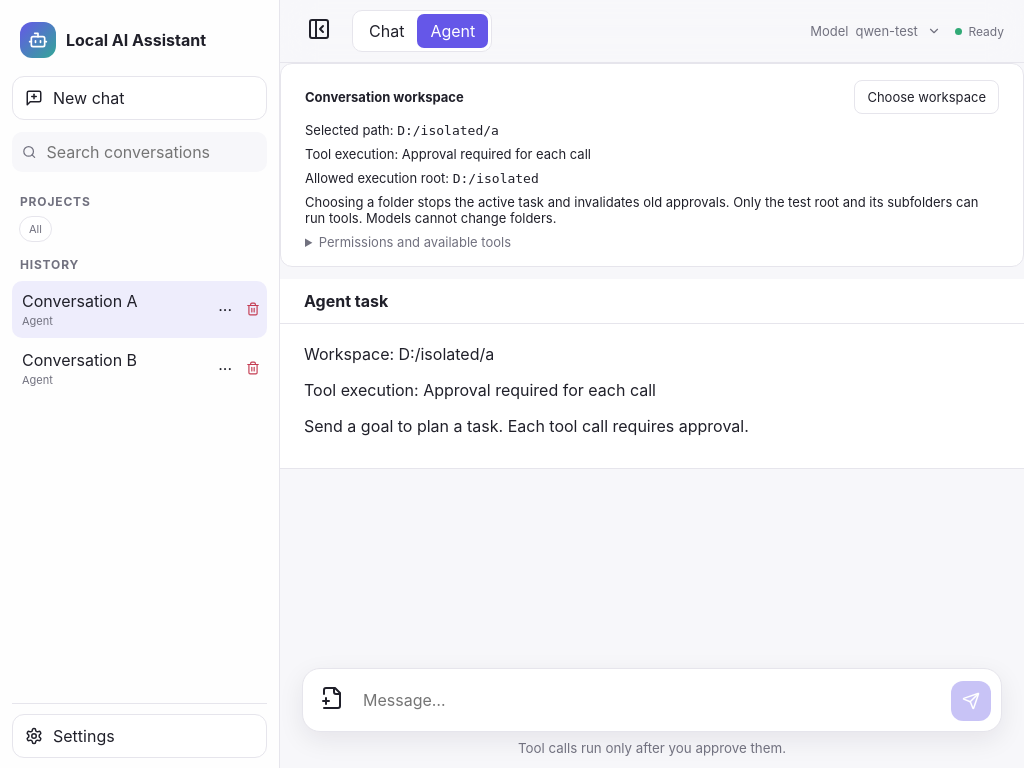
Test: modern desktop › does not apply a delayed workspace selection to another conversation
Expected: the text "D:/isolated/a" is shown, [397,123,499,138]
Click the button "Choose workspace" at (927, 97), box [854,80,999,114]
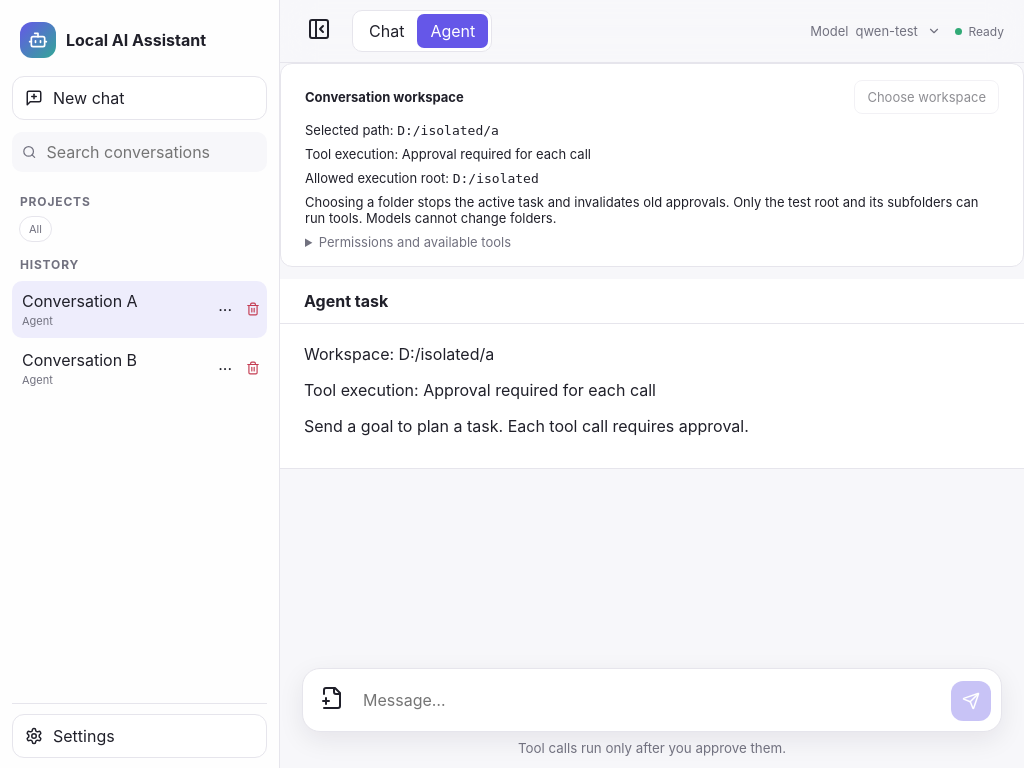
Click the button "Conversation B Agent" at (112, 368), box [12,340,211,397]
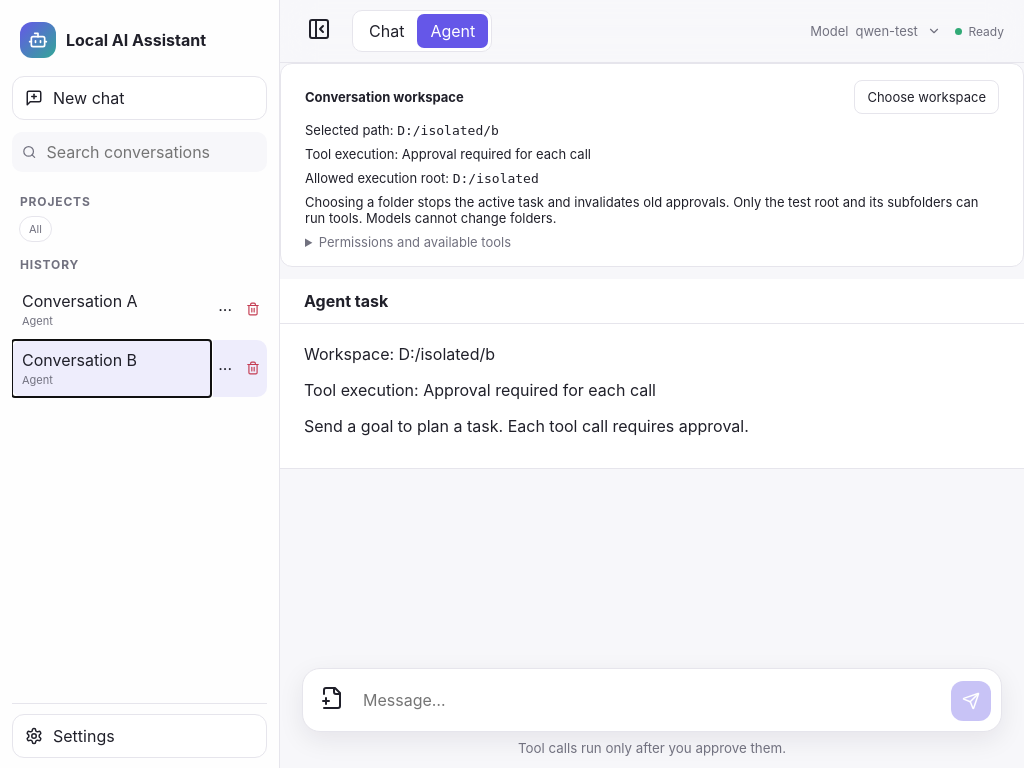
Expected: the text "D:/isolated/b" is shown, [397,123,499,138]
